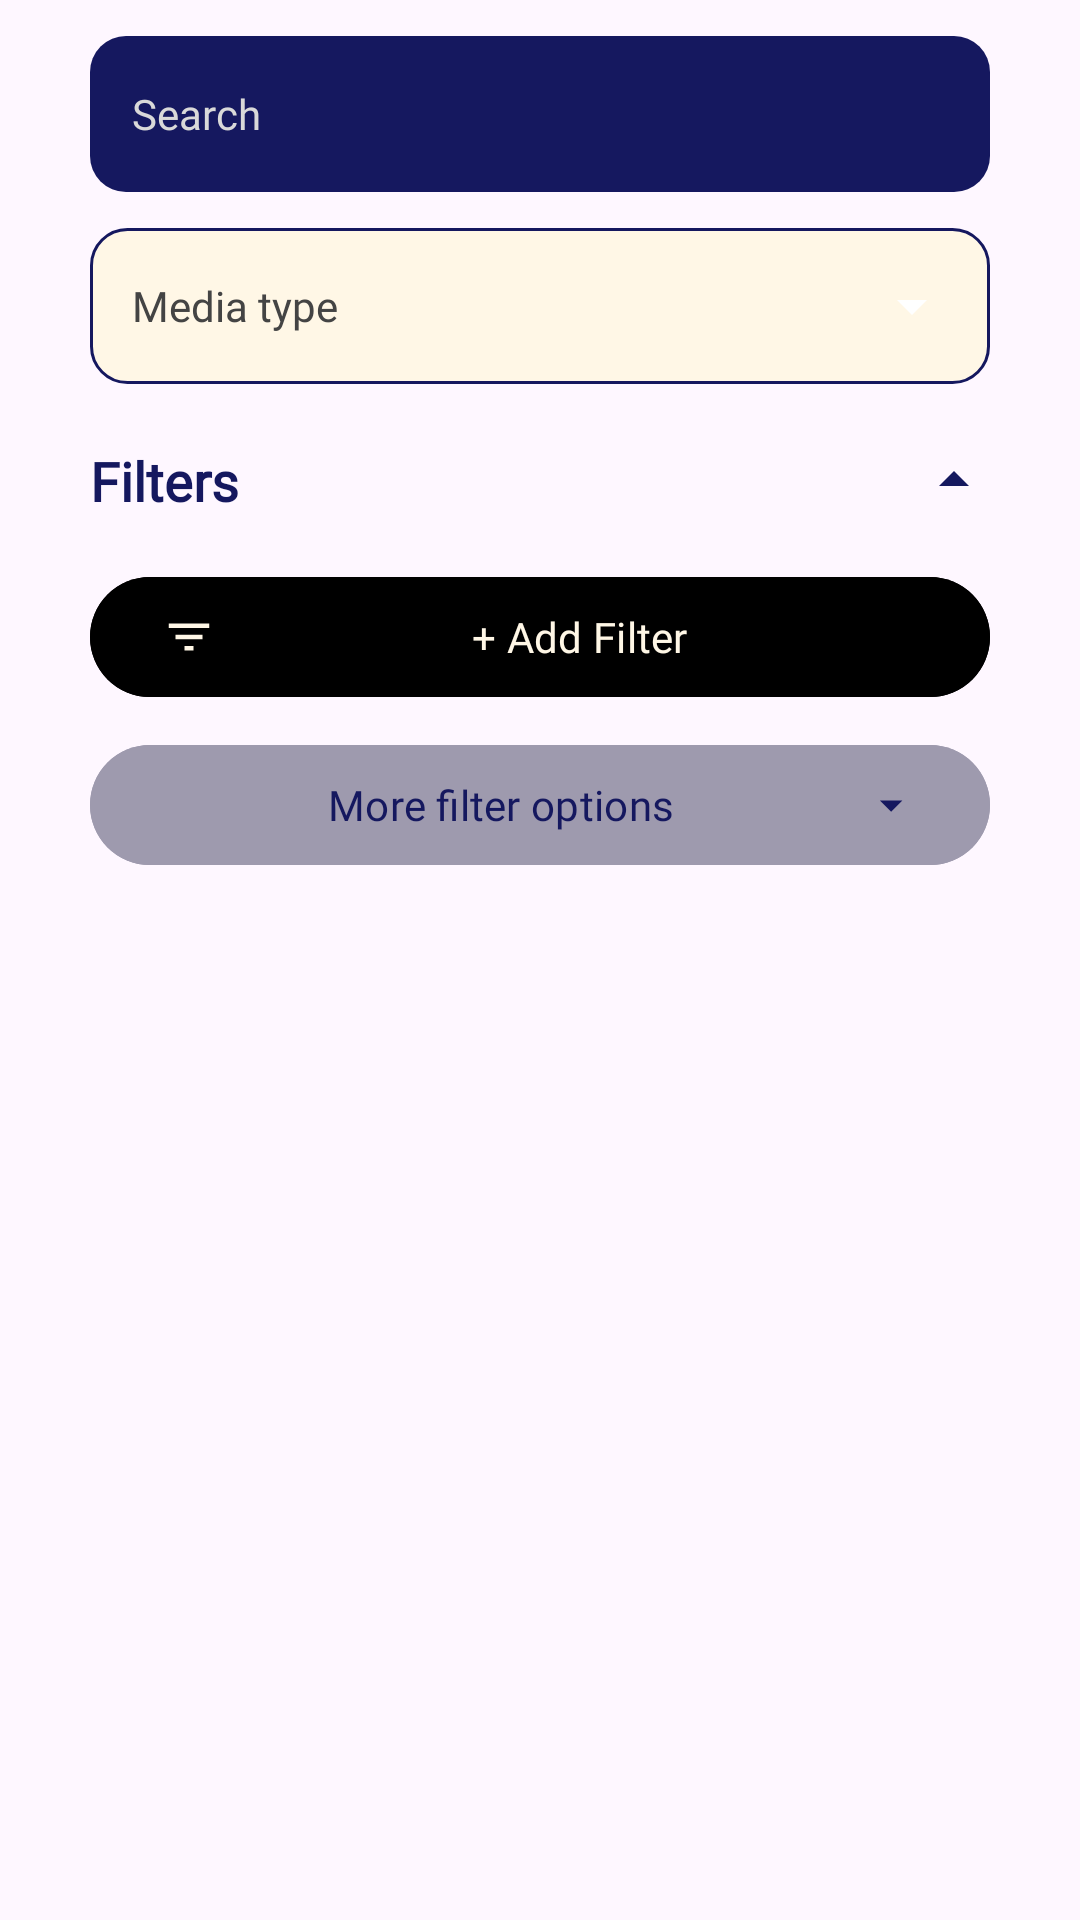

Icon click points for this 1080×1920 phone screenshot, format point (x, y):
Dropdown: point (912, 307)
